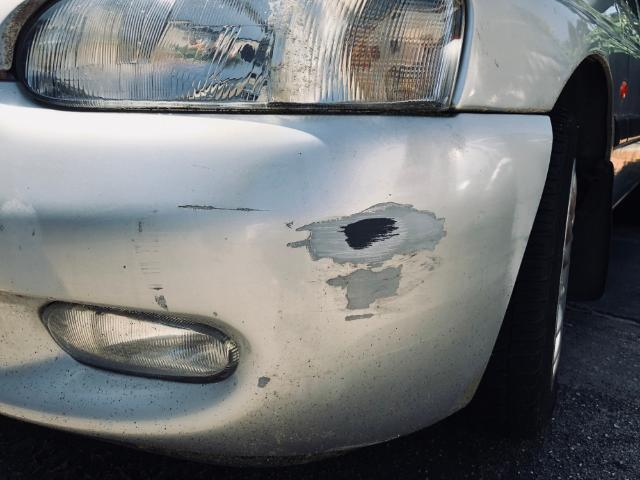rub: (280, 197, 452, 327)
scratch: (133, 203, 265, 314)
